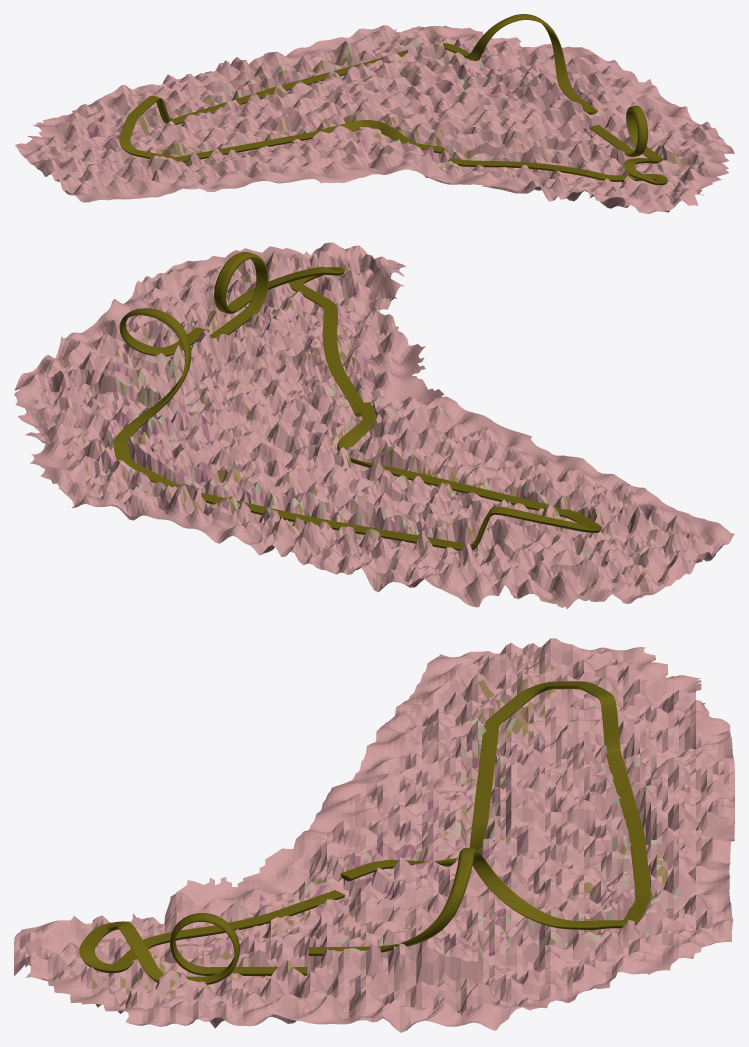
File: fixed road.FBX
3 views of the same model, one above another, from view 1: azimuth 30°, elevation 25°; view 2: azimuth 150°, elevation 25°; view 3: azimuth 270°, elevation 25° (orthographic). The views are drawn at different scales.
Parts seen in each view (by area): view 1: square_greed:Mesh, pathOBJ:Loft005; view 2: square_greed:Mesh, pathOBJ:Loft005; view 3: square_greed:Mesh, pathOBJ:Loft005.
Boxes of the visible parts, bbox=[...] form: square_greed:Mesh: bbox=[15, 25, 734, 213]; pathOBJ:Loft005: bbox=[119, 14, 667, 185]; square_greed:Mesh: bbox=[14, 242, 734, 608]; pathOBJ:Loft005: bbox=[113, 252, 602, 550]; square_greed:Mesh: bbox=[14, 638, 734, 1032]; pathOBJ:Loft005: bbox=[79, 681, 650, 984].
Bounding box in the file's own units: 1.6 × 0.2839 × 1.3.
